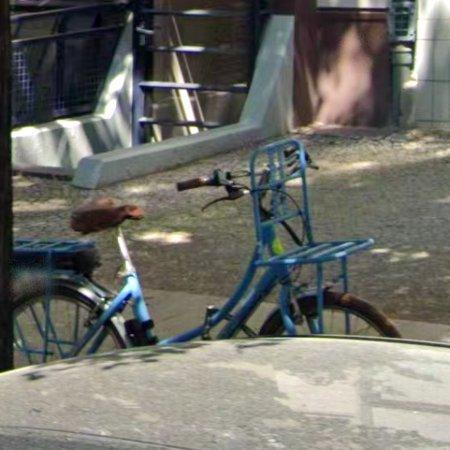bicycles: (161, 141, 400, 345)
